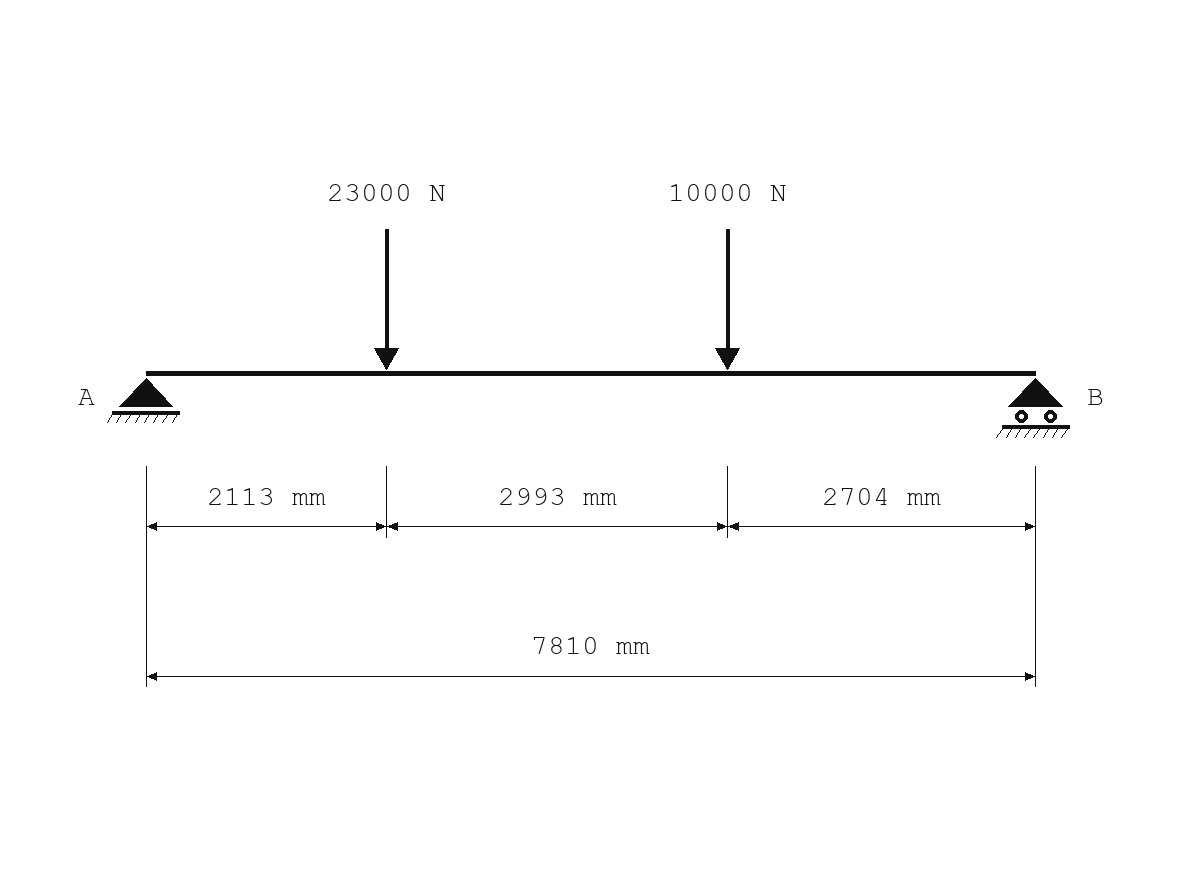pin_support: (107, 378, 180, 423)
point_load: (374, 229, 399, 370), (715, 229, 740, 370)
roller_support: (996, 378, 1070, 438)
